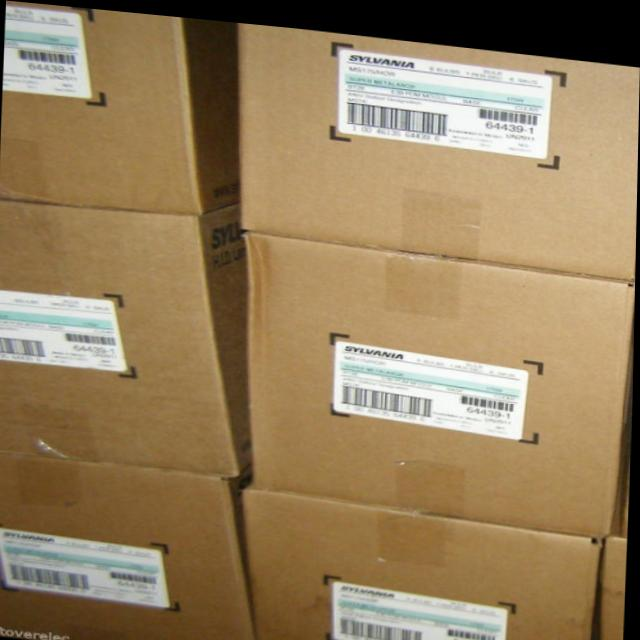box: (247, 227, 636, 526), (239, 18, 640, 267), (0, 196, 253, 472), (243, 481, 606, 640), (0, 0, 241, 210), (0, 453, 259, 640)
